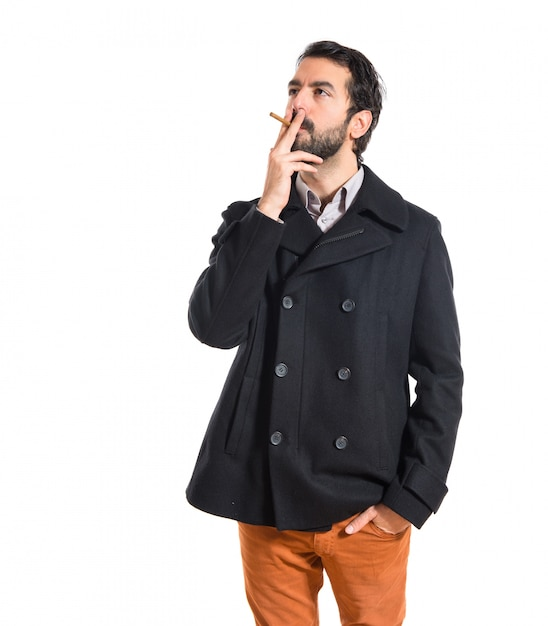cigarette: (267, 110, 289, 126)
